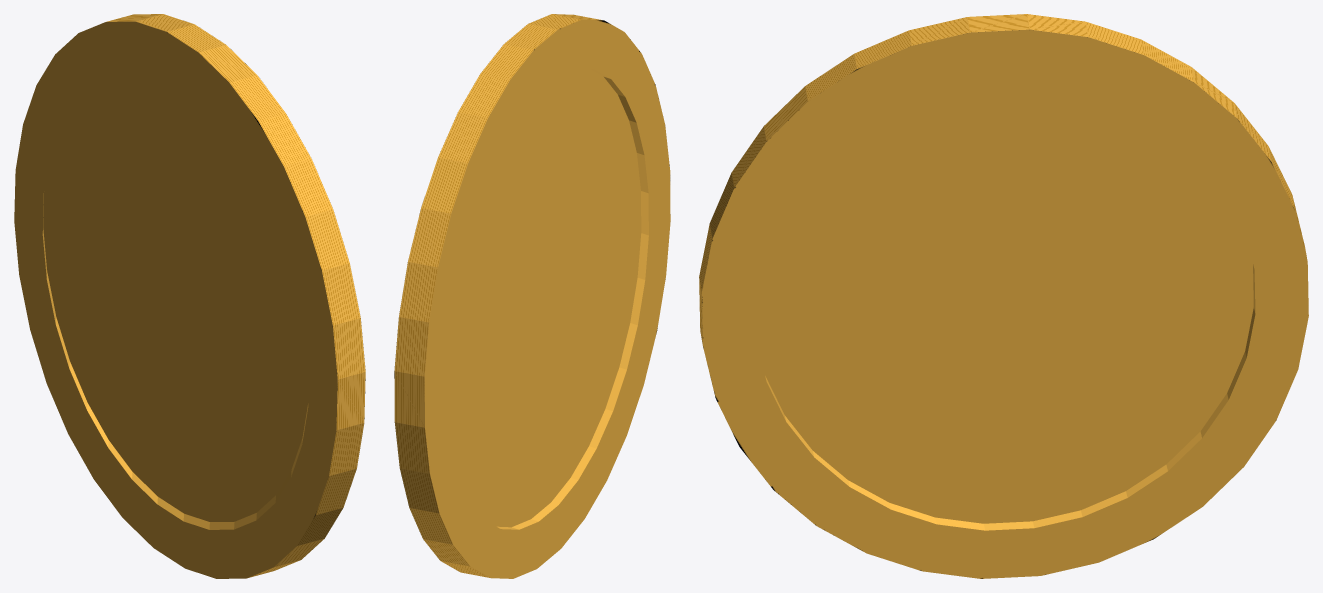
Rendered from coin.glb.
The picture shows the model from 3 angles, left to right: view 1: azimuth 30°, elevation 25°; view 2: azimuth 150°, elevation 25°; view 3: azimuth 270°, elevation 25°; orthographic projection. The views are drawn at different scales.
Visible parts, largest first — view 1: Cylinder; view 2: Cylinder; view 3: Cylinder.
Part boxes in pixels (<box>): Cylinder: <box>14,14,365,578</box>; Cylinder: <box>394,14,670,578</box>; Cylinder: <box>699,14,1308,578</box>.
Bounding box in the file's own units: 0.1356 × 0.9977 × 0.9984.
1 material, 1 textured.
